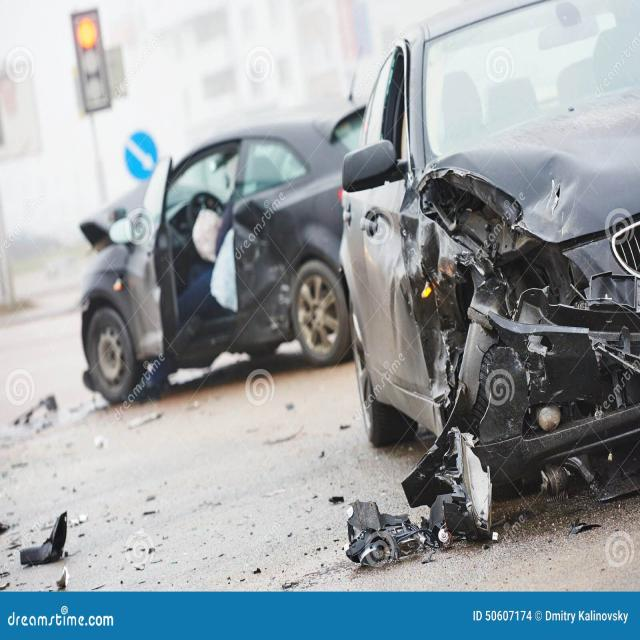Accident: (338, 0, 640, 581), (72, 102, 353, 407)
